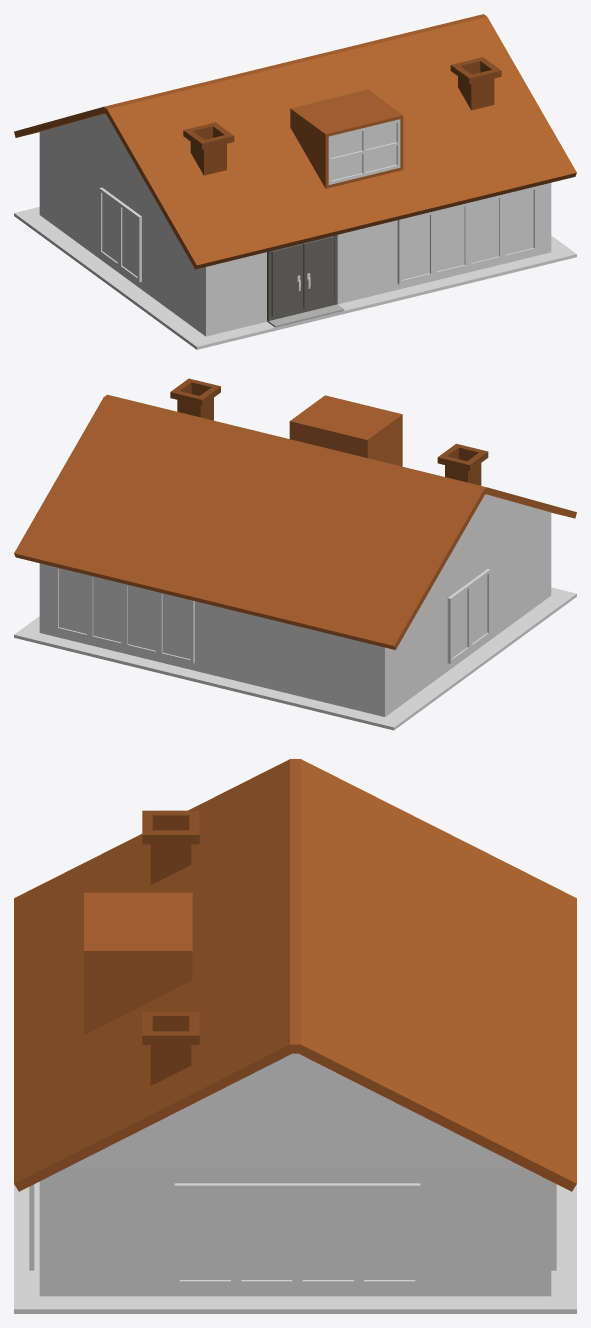
The model's file is house 2.fbx.
3 renders of one model, top to bottom at view 1: azimuth 30°, elevation 25°; view 2: azimuth 150°, elevation 25°; view 3: azimuth 270°, elevation 25°, orthographic. The views are drawn at different scales.
Parts seen in each view (by area): view 1: roof, house, window_frame, rooftop, door, chimney, rooftop_window_glass, rooftop_window_frame, door_frame, mat; view 2: roof, house, window_frame, rooftop, chimney; view 3: roof, house, window_frame, rooftop, chimney.
Boxes of the visible parts, x1,y1,x2,y2 form: roof: (14,14,576,269); house: (14,114,576,349); window_frame: (99,186,537,284); rooftop: (290,89,403,188); door: (271,236,334,316); chimney: (183,57,501,175); rooftop_window_glass: (331,123,396,180); rooftop_window_frame: (328,119,400,184); door_frame: (267,235,337,320); mat: (267,304,344,327); roof: (14,394,576,649); house: (14,494,576,730); window_frame: (55,567,490,663); rooftop: (289,395,402,466); chimney: (170,378,488,485); roof: (14,759,576,1191); house: (14,1053,576,1313); window_frame: (29,1181,556,1285); rooftop: (84,892,192,1034); chimney: (142,810,199,1085).
Size of the model in its own units: 1320 by 580 by 1100.
